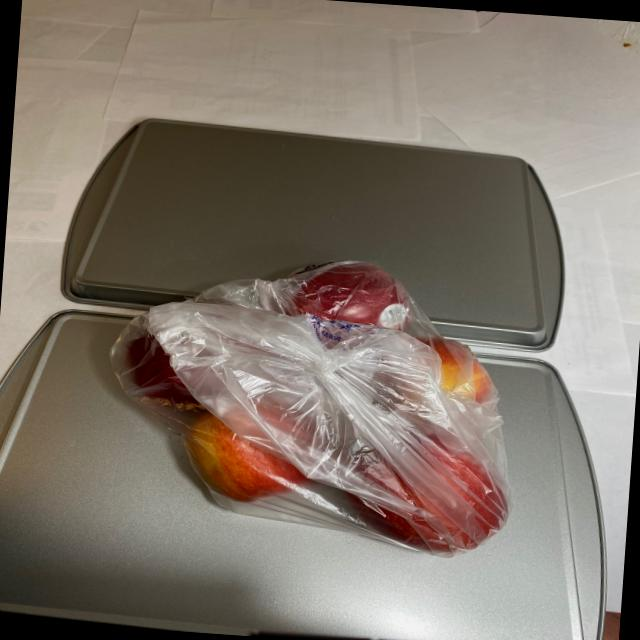apple: (96, 241, 526, 560)
